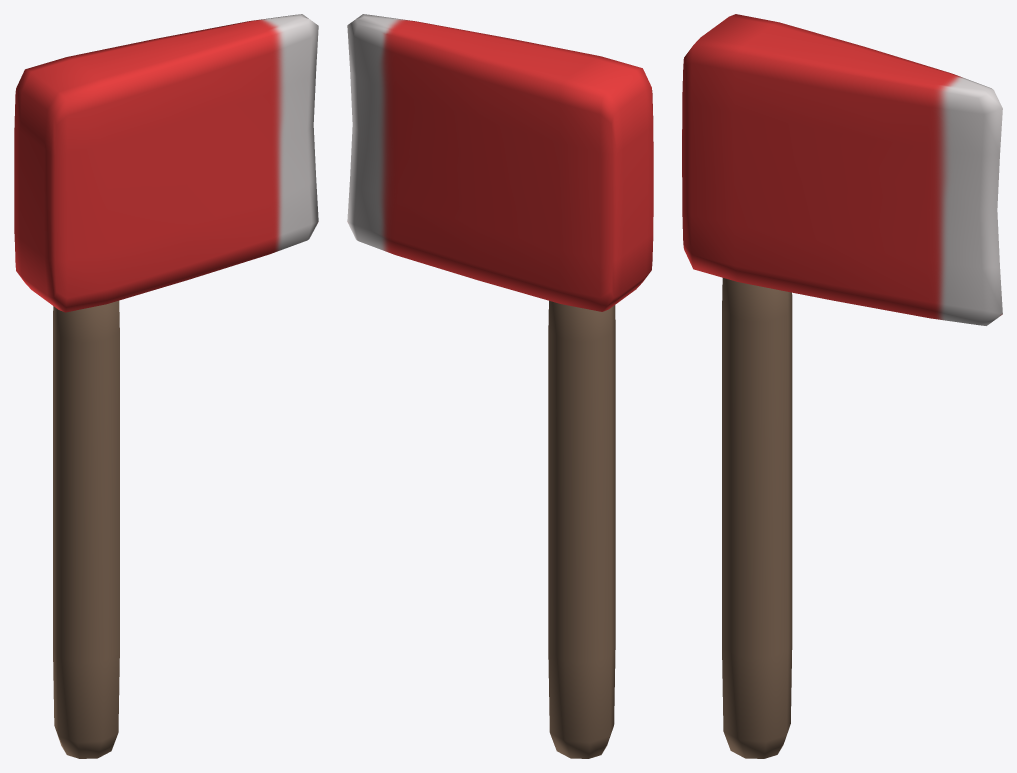
The model's file is Axe.fbx.
3 views of the same model, side by side, from view 1: azimuth 30°, elevation 25°; view 2: azimuth 150°, elevation 25°; view 3: azimuth 330°, elevation 25° (orthographic). The views are drawn at different scales.
Visible parts, largest first — view 1: Axe; view 2: Axe; view 3: Axe.
Boxes of the visible parts, x1,y1,x2,y2 form: Axe: (14, 14, 318, 758); Axe: (347, 14, 653, 758); Axe: (682, 14, 1002, 758).
Bounding box in the file's own units: 19.74 × 44.93 × 5.29.
1 material, 1 textured.
